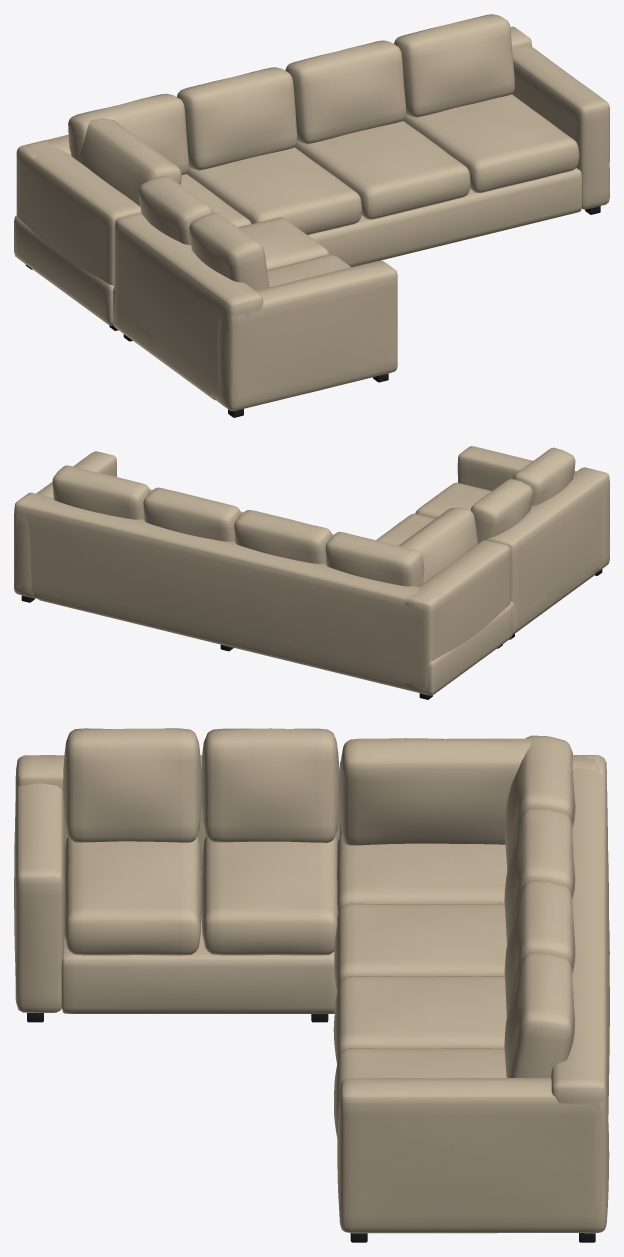
The model's file is sofa_rinconera_izquierda_arena.glb.
The picture shows the model from 3 angles, top to bottom: view 1: azimuth 30°, elevation 25°; view 2: azimuth 150°, elevation 25°; view 3: azimuth 270°, elevation 25°; orthographic projection. The views are drawn at different scales.
Parts seen in each view (by area): view 1: sofa_rinconera_izquierda_arena; view 2: sofa_rinconera_izquierda_arena; view 3: sofa_rinconera_izquierda_arena.
Part boxes in pixels (x1,y1,x2,y2): sofa_rinconera_izquierda_arena: (14,14,609,417); sofa_rinconera_izquierda_arena: (14,446,609,699); sofa_rinconera_izquierda_arena: (14,728,609,1242).
Size of the model in its own units: 2.82 by 0.8278 by 2.12.
Materials: 2 (1 with a texture image).
